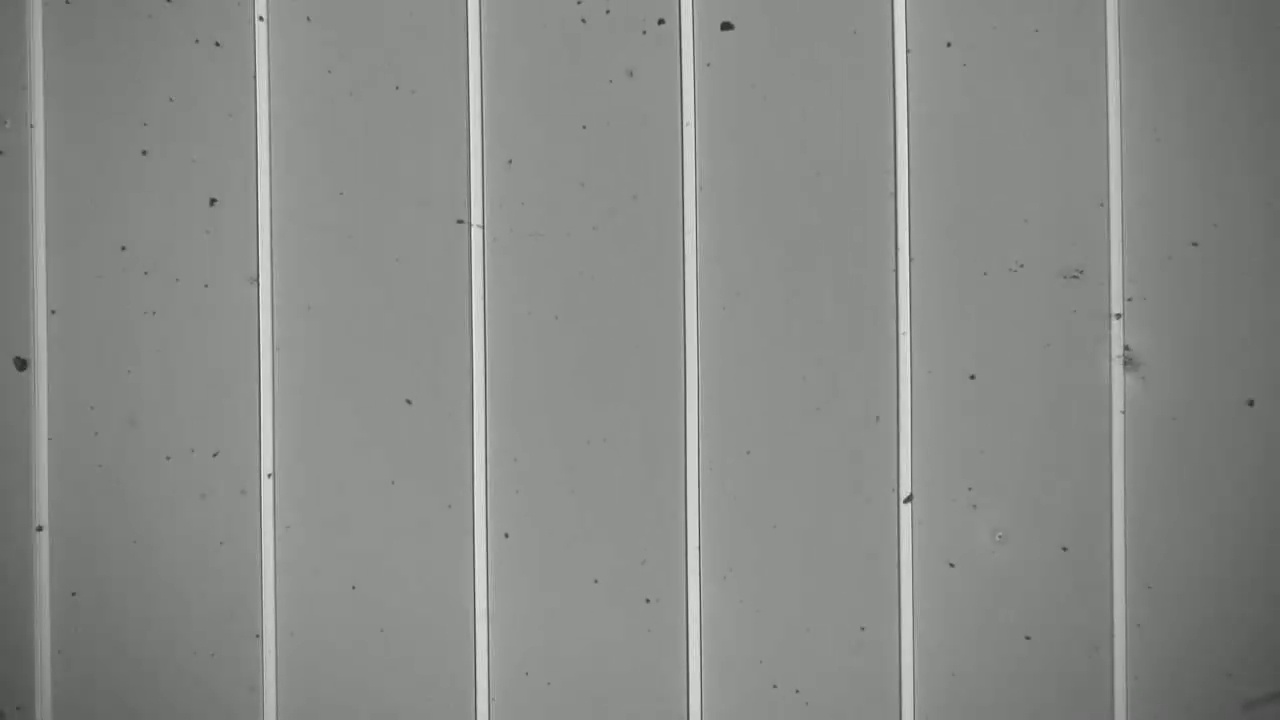stains_enbedded: (894, 489, 918, 512)
